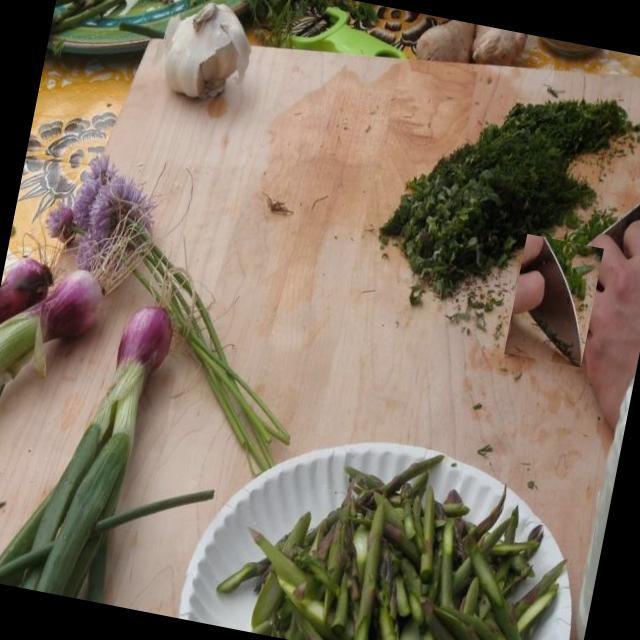Knife: (521, 238, 583, 367), (605, 204, 640, 247)
